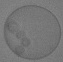small: (8, 22, 18, 32), (14, 46, 24, 54), (22, 38, 30, 47), (17, 32, 26, 39)
